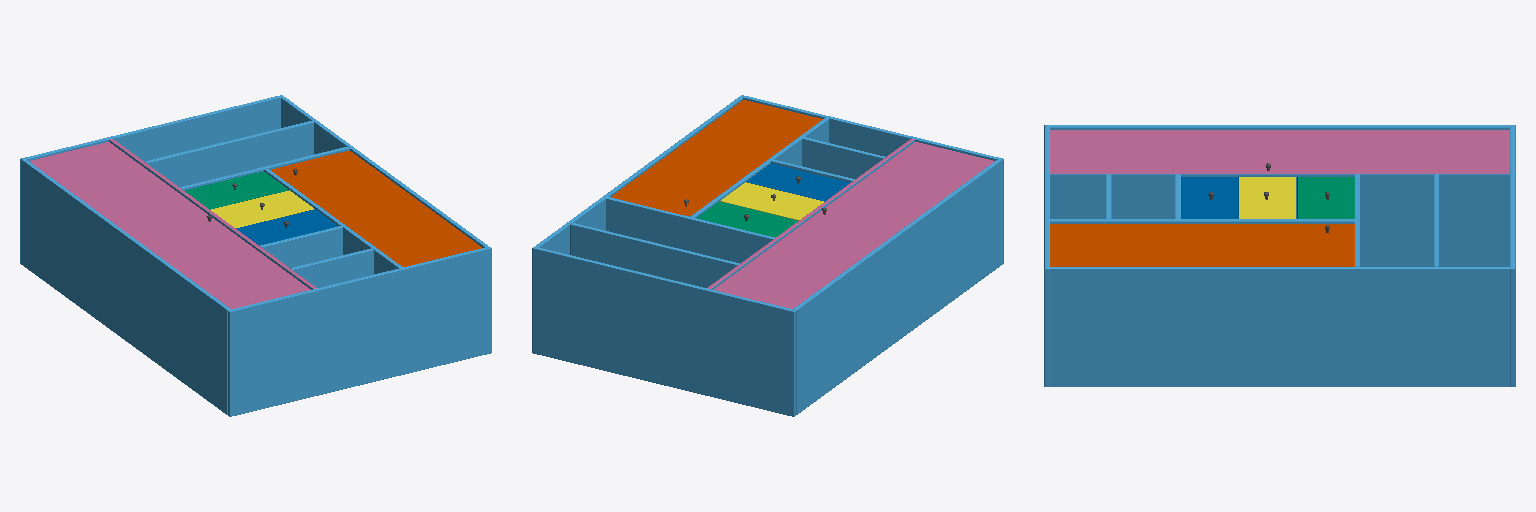
robot.urdf — 271:
<robot name="271">


	<link name="0:virtual">
		<visual>
			<origin xyz="0.0 0.0 0.0" rpy="0 0 0"/>
			<geometry>
				<cylinder length="0" radius="0"/>
			</geometry>
		</visual>
	</link>


	<link name="1:static">
		<visual>
			<origin xyz="-0.0 -0.0 -0.0" rpy="0 0 0"/>
			<geometry>
				<mesh filename="../raw_data/271/part_meshes/1.dae" />
			</geometry>
		</visual>
	</link>


	<link name="2:drawer 1">
		<visual>
			<origin xyz="-0.00030300021171569824 -1.0758389830589294 0.0049974992871284485" rpy="0 0 0"/>
			<geometry>
				<mesh filename="../raw_data/271/part_meshes/2.dae" />
			</geometry>
		</visual>
	</link>


	<link name="3:drawer 2">
		<visual>
			<origin xyz="-0.00030300021171569824 -0.8525895178318024 0.0049974992871284485" rpy="0 0 0"/>
			<geometry>
				<mesh filename="../raw_data/271/part_meshes/3.dae" />
			</geometry>
		</visual>
	</link>


	<link name="4:drawer 3">
		<visual>
			<origin xyz="-9.000301361083984e-06 -0.6308709979057312 0.0049974992871284485" rpy="0 0 0"/>
			<geometry>
				<mesh filename="../raw_data/271/part_meshes/4.dae" />
			</geometry>
		</visual>
	</link>


	<link name="5:door 1">
		<visual>
			<origin xyz="-0.6299980282783508 -1.1851799488067627 -0.23997201025485992" rpy="0 0 0"/>
			<geometry>
				<mesh filename="../raw_data/271/part_meshes/5.dae" />
			</geometry>
		</visual>
	</link>


	<link name="6:door 2">
		<visual>
			<origin xyz="0.6492749691605572 -1.7799999713897705 -0.23900000953674277" rpy="0 0 0"/>
			<geometry>
				<mesh filename="../raw_data/271/part_meshes/6.dae" />
			</geometry>
		</visual>
	</link>


	<joint name="0:virtual::1:static" type="fixed">
		<parent link="0:virtual"/>
		<child link="1:static"/>
		<origin xyz="0.0 0.0 0.0" rpy="0 0 0"/>
	</joint>


	<joint name="0:virtual::2:drawer 1_translation" type="prismatic">
		<parent link="0:virtual"/>
		<child link="2:drawer 1"/>
		<origin xyz="0.00030300021171569824 1.0758389830589294 -0.0049974992871284485" rpy="0 0 0"/>
		<limit lower="0.0" upper="0.448000022351742" effort="10" velocity="3"/>
		<axis xyz="0.0 0.0 1.0"/>
	</joint>


	<joint name="0:virtual::3:drawer 2_translation" type="prismatic">
		<parent link="0:virtual"/>
		<child link="3:drawer 2"/>
		<origin xyz="0.00030300021171569824 0.8525895178318024 -0.0049974992871284485" rpy="0 0 0"/>
		<limit lower="0.0" upper="0.438220986247063" effort="10" velocity="3"/>
		<axis xyz="0.0 0.0 1.0"/>
	</joint>


	<joint name="0:virtual::4:drawer 3_translation" type="prismatic">
		<parent link="0:virtual"/>
		<child link="4:drawer 3"/>
		<origin xyz="9.000301361083984e-06 0.6308709979057312 -0.0049974992871284485" rpy="0 0 0"/>
		<limit lower="0.0" upper="0.446000022351742" effort="10" velocity="3"/>
		<axis xyz="0.0 0.0 1.0"/>
	</joint>


	<joint name="0:virtual::5:door 1_rotation" type="revolute">
		<parent link="0:virtual"/>
		<child link="5:door 1"/>
		<origin xyz="0.6299980282783508 1.1851799488067627 0.23997201025485992" rpy="0 0 0"/>
		<limit lower="0.0" upper="1.4765485471872026" effort="10" velocity="3"/>
		<axis xyz="0.0 1.0 0.0"/>
	</joint>


	<joint name="0:virtual::6:door 2_rotation" type="revolute">
		<parent link="0:virtual"/>
		<child link="6:door 2"/>
		<origin xyz="-0.6492749691605572 1.7799999713897705 0.23900000953674277" rpy="0 0 0"/>
		<limit lower="-1.6493361431346414" upper="0.0" effort="10" velocity="3"/>
		<axis xyz="0.0 1.0 0.0"/>
	</joint>


</robot>

--- Render facts (derived) ---
Views: 3 orthographic renders of the robot side by side, from view 1: azimuth 30°, elevation 25°; view 2: azimuth 150°, elevation 25°; view 3: azimuth 270°, elevation 25°.
Robot: 271 — 7 links, 6 joints (2 revolute, 3 prismatic, 1 fixed); root link 0:virtual; default pose: every joint at zero.
Visible links, largest first — view 1: 1:static, 6:door 2, 5:door 1, 2:drawer 1, 3:drawer 2, 4:drawer 3; view 2: 1:static, 6:door 2, 5:door 1, 3:drawer 2, 4:drawer 3, 2:drawer 1; view 3: 1:static, 6:door 2, 5:door 1, 2:drawer 1, 4:drawer 3, 3:drawer 2.
Boxes of the visible links, <box> form: 1:static: <box>20,95,491,416</box>; 6:door 2: <box>29,139,316,308</box>; 5:door 1: <box>271,150,481,266</box>; 2:drawer 1: <box>185,171,288,209</box>; 3:drawer 2: <box>211,190,313,227</box>; 4:drawer 3: <box>236,209,337,245</box>; 1:static: <box>532,95,1003,416</box>; 6:door 2: <box>707,139,994,308</box>; 5:door 1: <box>611,100,822,216</box>; 3:drawer 2: <box>720,182,823,220</box>; 4:drawer 3: <box>746,164,849,201</box>; 2:drawer 1: <box>697,201,797,237</box>; 1:static: <box>1044,125,1515,386</box>; 6:door 2: <box>1050,130,1509,173</box>; 5:door 1: <box>1050,224,1354,266</box>; 2:drawer 1: <box>1297,177,1354,218</box>; 4:drawer 3: <box>1181,177,1238,218</box>; 3:drawer 2: <box>1239,177,1295,218</box>.
Bounding box of the posed robot: 1.3 × 1.8 × 0.5196 m (x, y, z).
6 mesh visuals loaded from 6 distinct referenced files (6 Collada DAE).